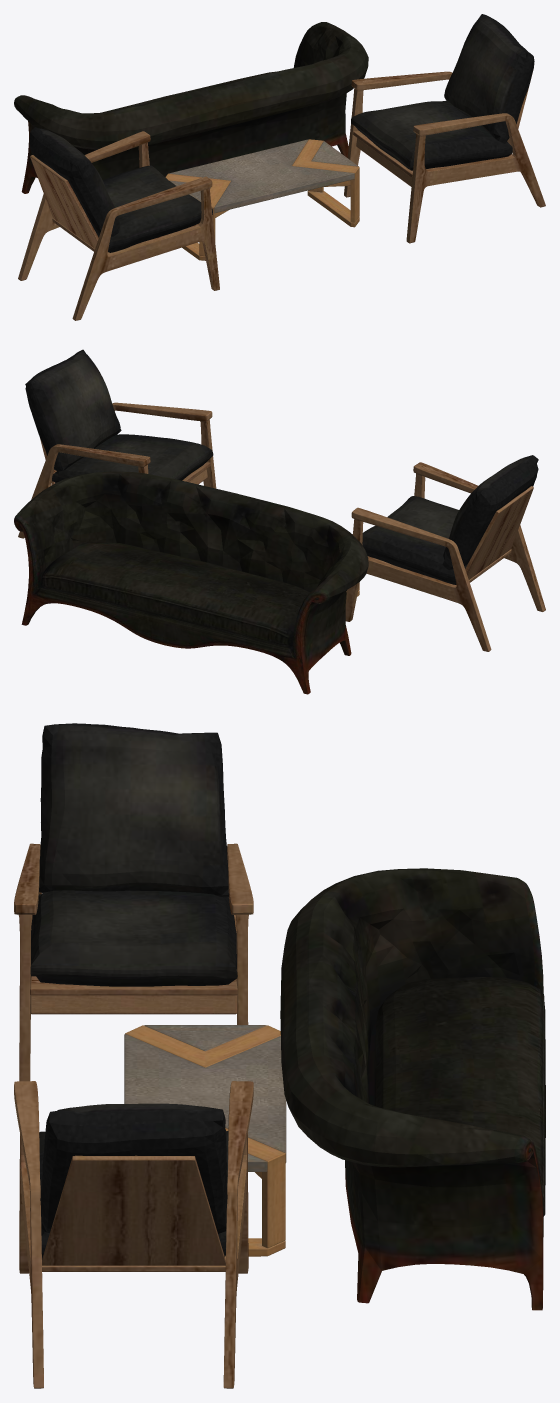
File: lounge_set.glb
3 views of the same model, one above another, from view 1: azimuth 30°, elevation 25°; view 2: azimuth 150°, elevation 25°; view 3: azimuth 270°, elevation 25° (orthographic). The views are drawn at different scales.
Parts seen in each view (by area): view 1: sofa_02_1_n0, modern_arm_chair_01_1_n3, modern_arm_chair_01_0_n2, modern_coffee_table_01_0_n1, modern_arm_chair_01_1_n2, modern_arm_chair_01_0_n3, sofa_02_0_n0; view 2: sofa_02_1_n0, sofa_02_0_n0, modern_arm_chair_01_1_n3, modern_arm_chair_01_0_n2, modern_arm_chair_01_1_n2, modern_arm_chair_01_0_n3; view 3: sofa_02_1_n0, modern_arm_chair_01_1_n2, modern_arm_chair_01_0_n3, sofa_02_0_n0, modern_coffee_table_01_0_n1, modern_arm_chair_01_1_n3, modern_arm_chair_01_0_n2.
Part boxes in pixels (x1=…): sofa_02_1_n0: x1=14, y1=22, x2=368, y2=193; modern_arm_chair_01_1_n3: x1=351, y1=14, x2=534, y2=170; modern_arm_chair_01_0_n2: x1=18, y1=131, x2=219, y2=320; modern_coffee_table_01_0_n1: x1=165, y1=139, x2=359, y2=260; modern_arm_chair_01_1_n2: x1=29, y1=127, x2=212, y2=252; modern_arm_chair_01_0_n3: x1=344, y1=71, x2=545, y2=243; sofa_02_0_n0: x1=102, y1=71, x2=275, y2=112; sofa_02_1_n0: x1=14, y1=471, x2=368, y2=694; sofa_02_0_n0: x1=41, y1=542, x2=309, y2=646; modern_arm_chair_01_1_n3: x1=25, y1=349, x2=213, y2=482; modern_arm_chair_01_0_n2: x1=345, y1=462, x2=545, y2=651; modern_arm_chair_01_1_n2: x1=362, y1=455, x2=538, y2=584; modern_arm_chair_01_0_n3: x1=18, y1=402, x2=216, y2=538; sofa_02_1_n0: x1=280, y1=868, x2=543, y2=1310; modern_arm_chair_01_1_n2: x1=30, y1=723, x2=237, y2=986; modern_arm_chair_01_0_n3: x1=14, y1=1081, x2=253, y2=1388; sofa_02_0_n0: x1=374, y1=977, x2=545, y2=1216; modern_coffee_table_01_0_n1: x1=124, y1=1025, x2=286, y2=1256; modern_arm_chair_01_1_n3: x1=39, y1=1103, x2=228, y2=1259; modern_arm_chair_01_0_n2: x1=14, y1=843, x2=253, y2=1081.
Size of the model in its own units: 2.95 by 0.9206 by 1.64.
Materials: 4 (4 with a texture image).
